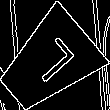L_SW: (20, 35, 76, 91)
